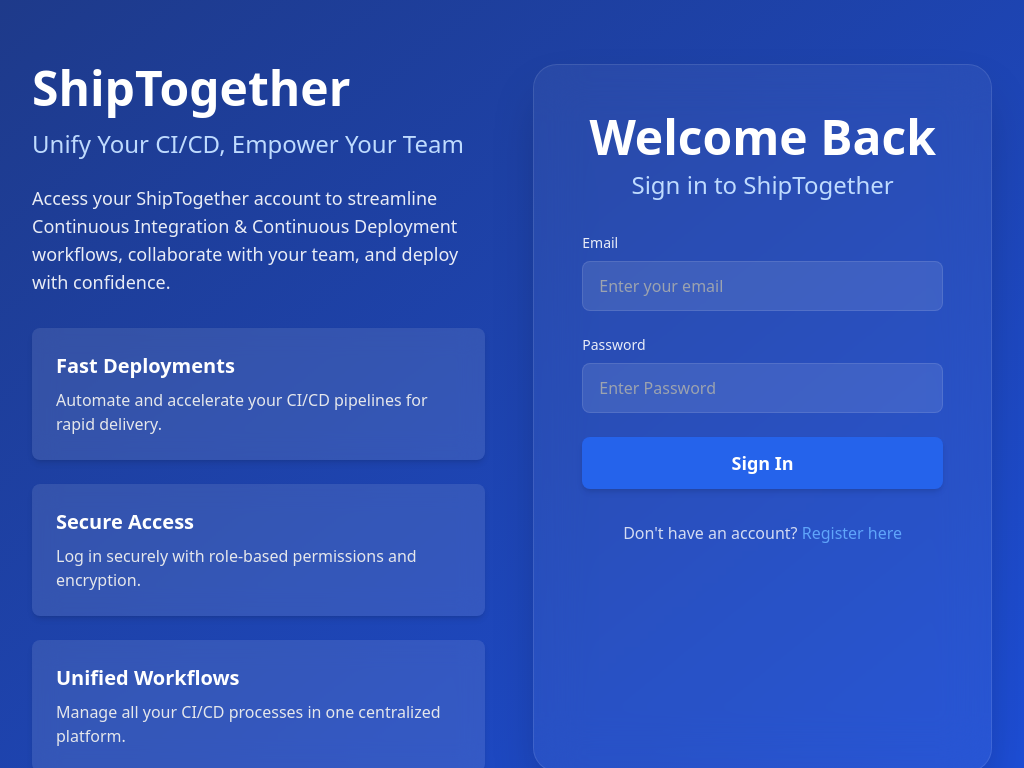
Test case: Login Component › Form Submission - Error Handling › displays generic error message when no specific error provided
Type "test@example.com" into the field with placeholder "Enter your email".
click(763, 286); type("test@example.com")  # box left=582, top=261, right=943, bottom=311
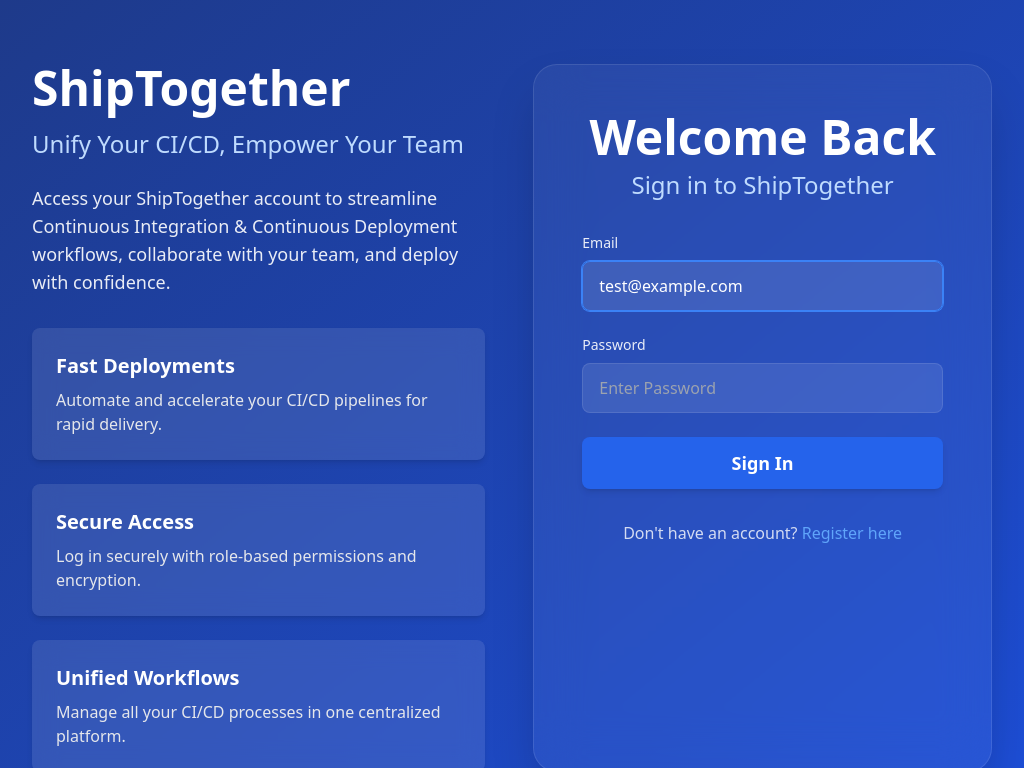
Type "password123" into the password field with placeholder "Enter Password".
click(763, 388); type("password123")  # box left=582, top=363, right=943, bottom=413
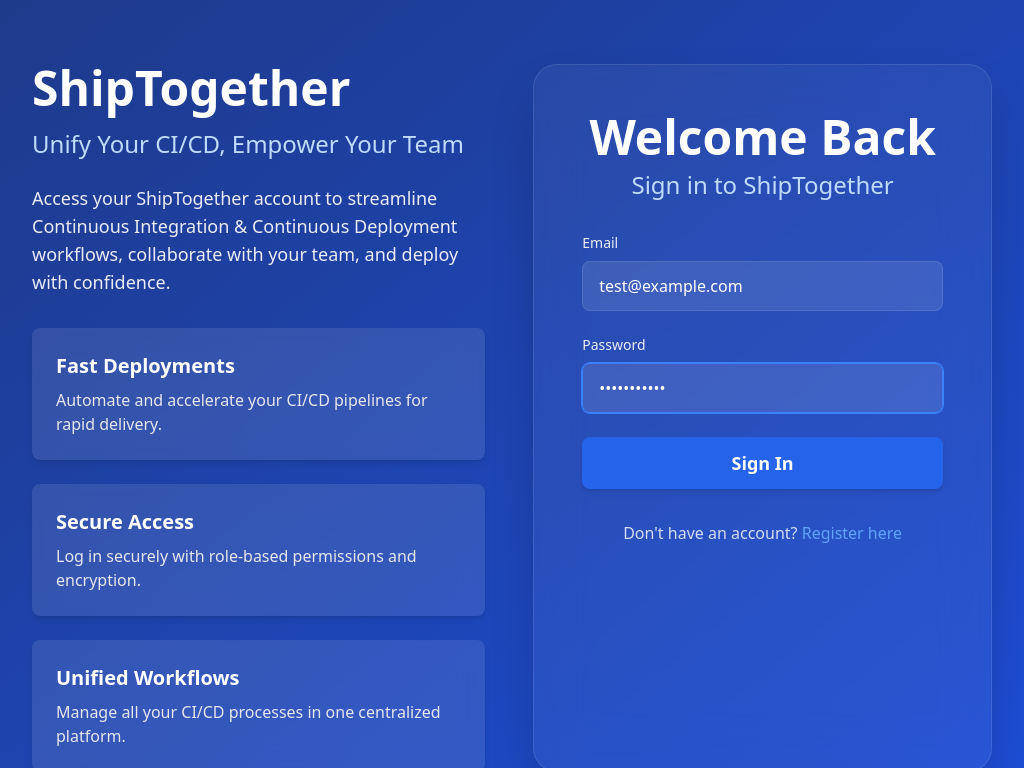
Click the button "Sign In".
click(763, 463)  # box left=582, top=437, right=943, bottom=489
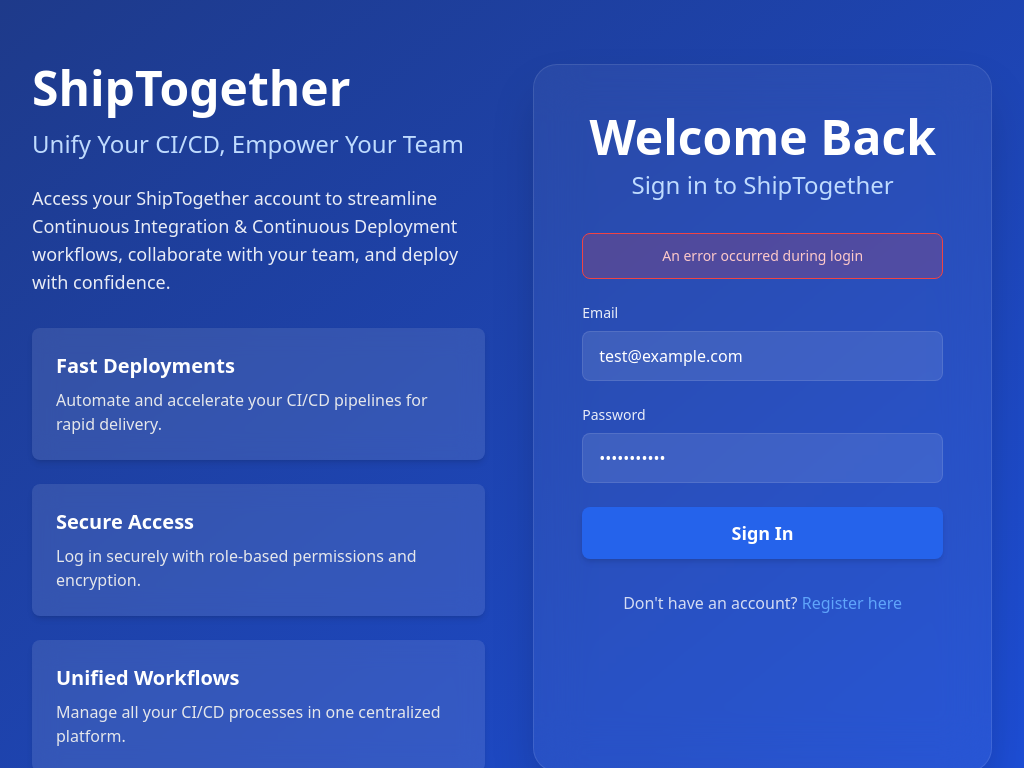
Now the text "An error occurred during login" is shown, box left=582, top=233, right=943, bottom=279
